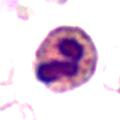monocyte: (32, 23, 98, 93)
